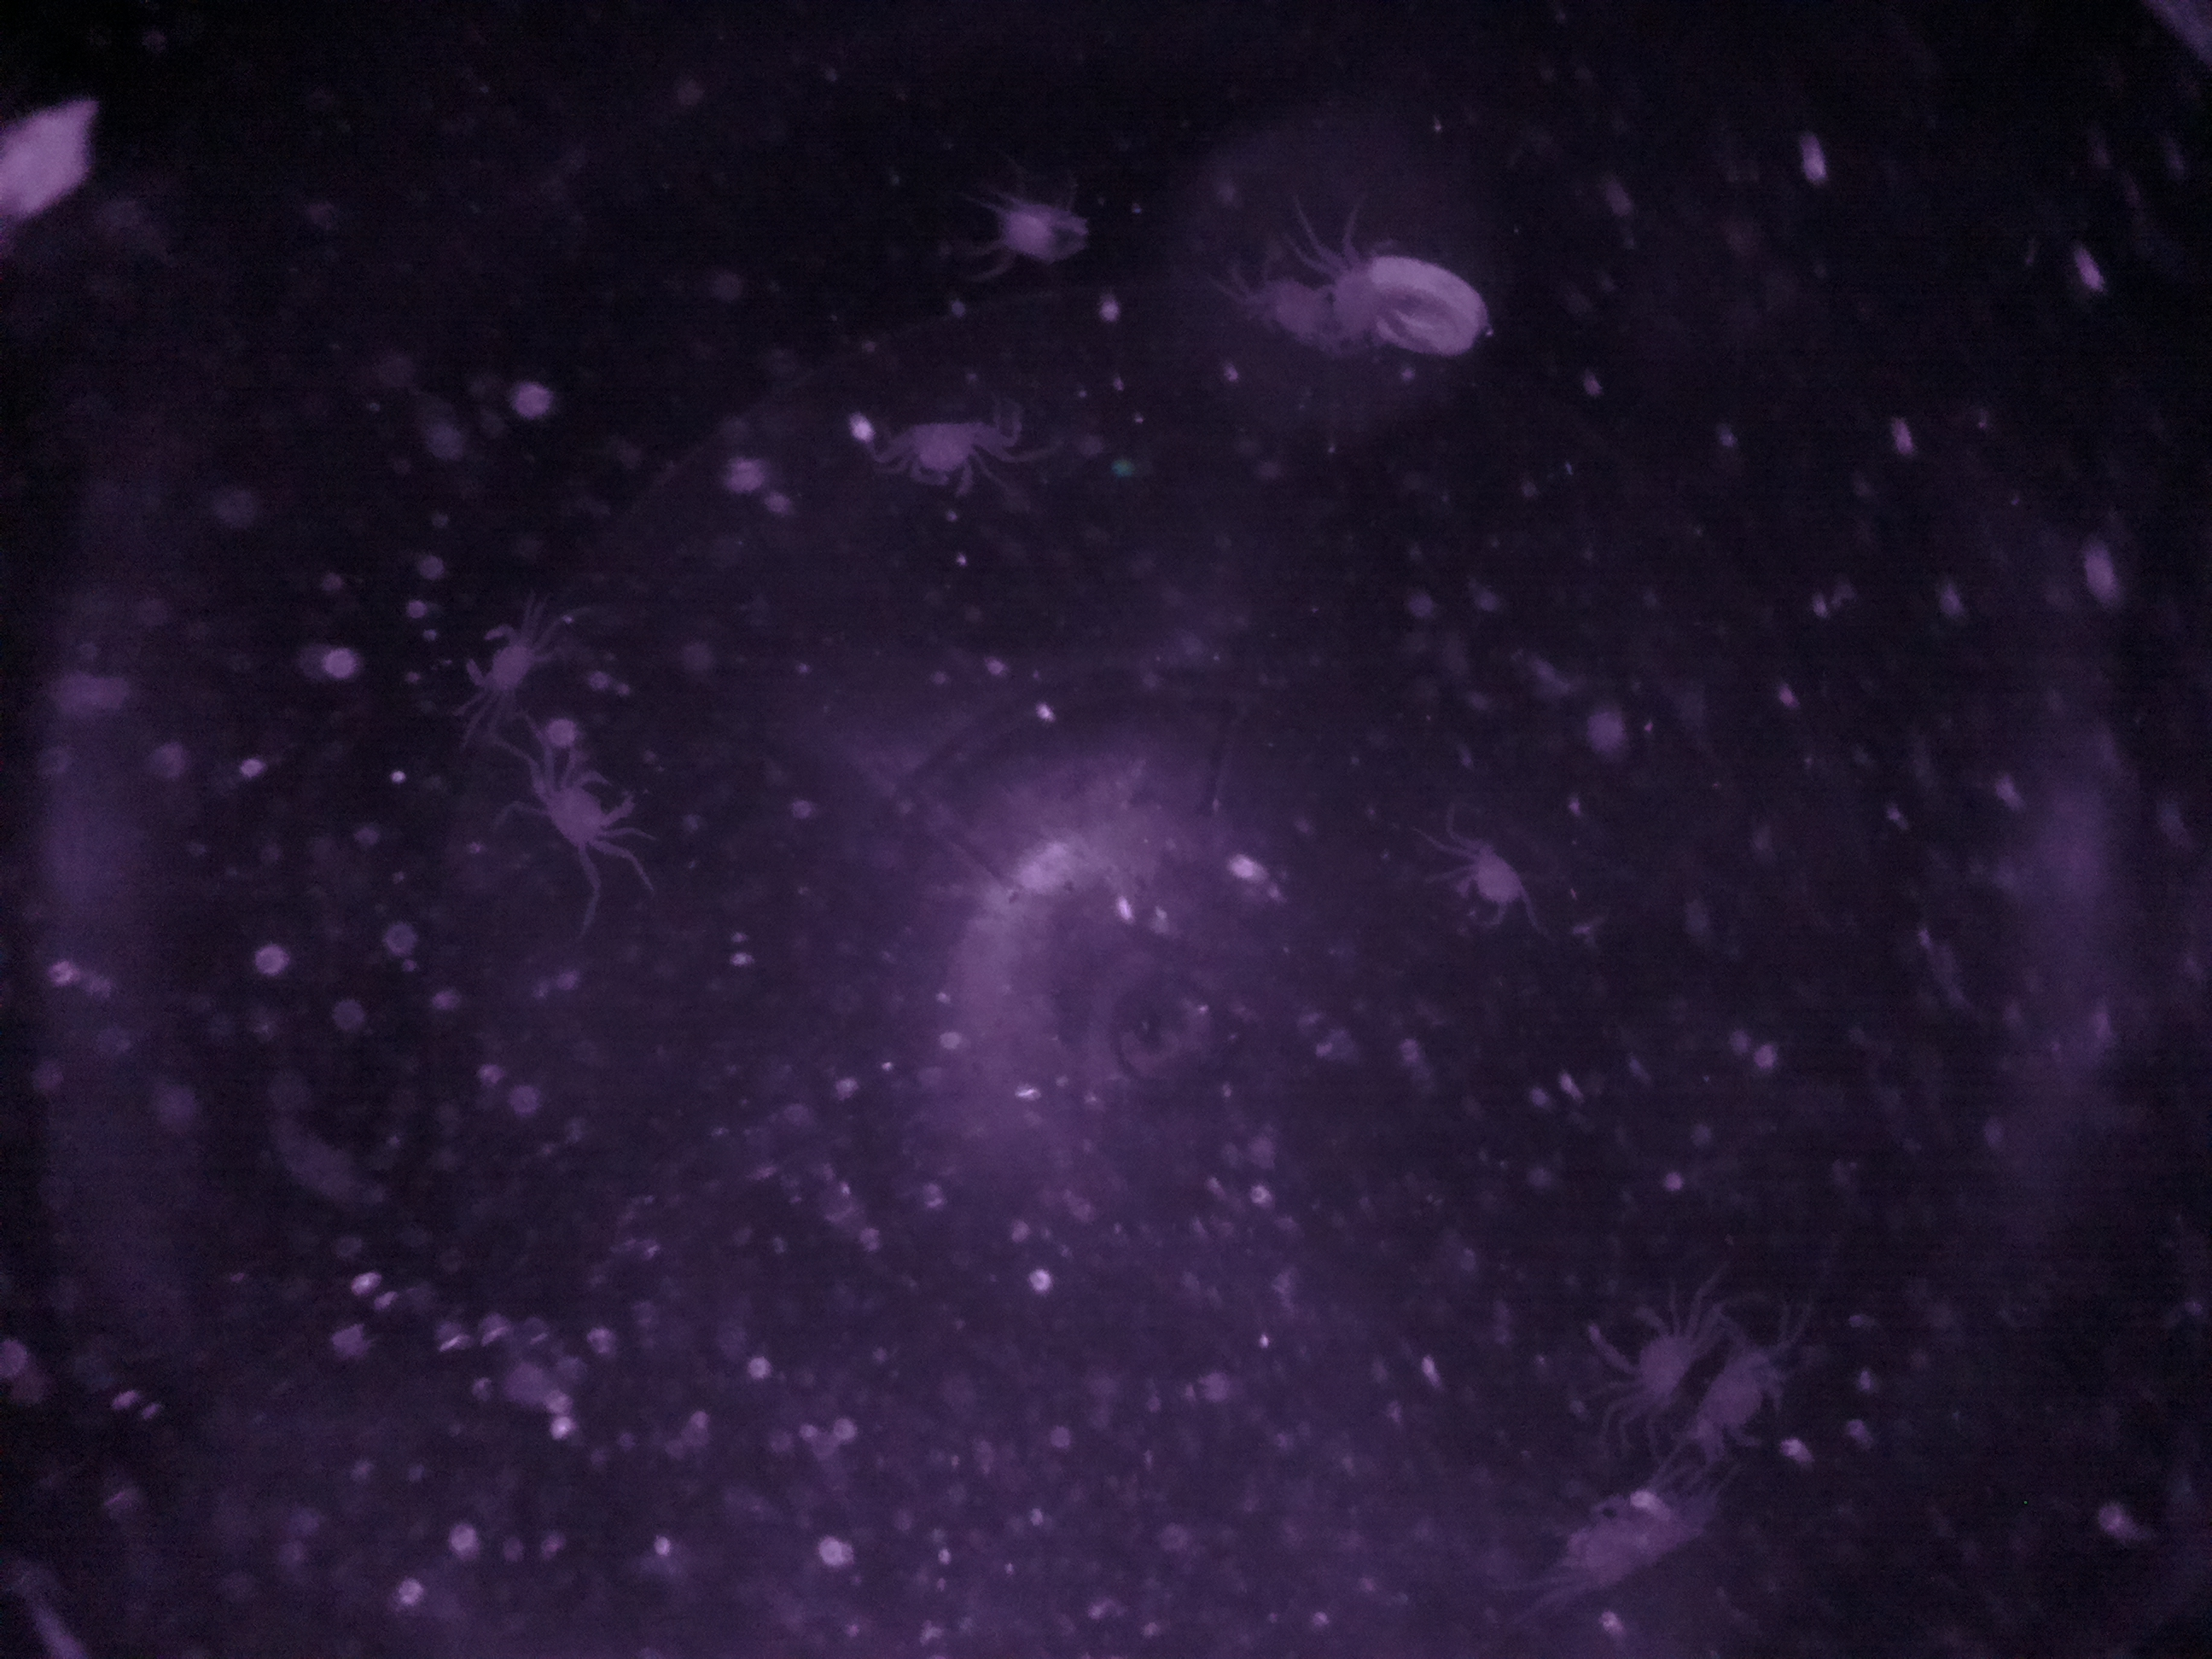Crab: (512, 749, 650, 871), (880, 382, 1000, 514), (1442, 828, 1566, 939), (449, 612, 547, 709)
